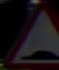Speed Breaker ahead: (14, 14, 54, 64)
